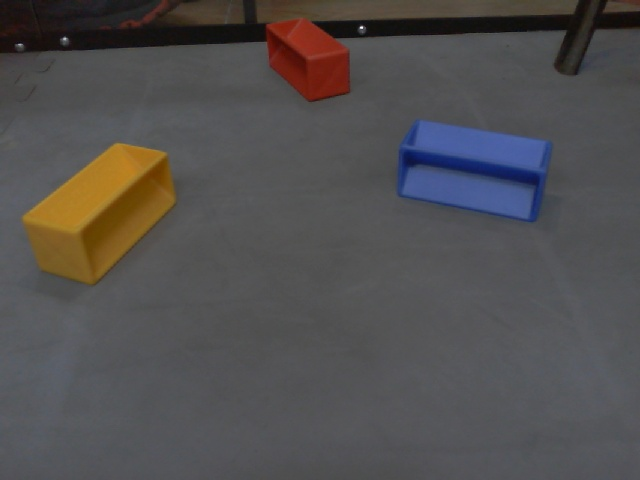BlueSample: (398, 115, 554, 225)
RedSample: (264, 16, 352, 103)
YellowSample: (21, 141, 176, 294)
